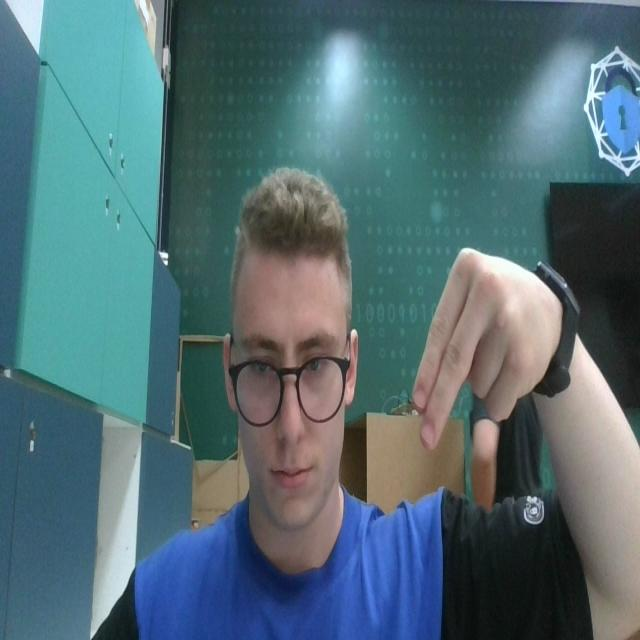N: (407, 238, 544, 454)
